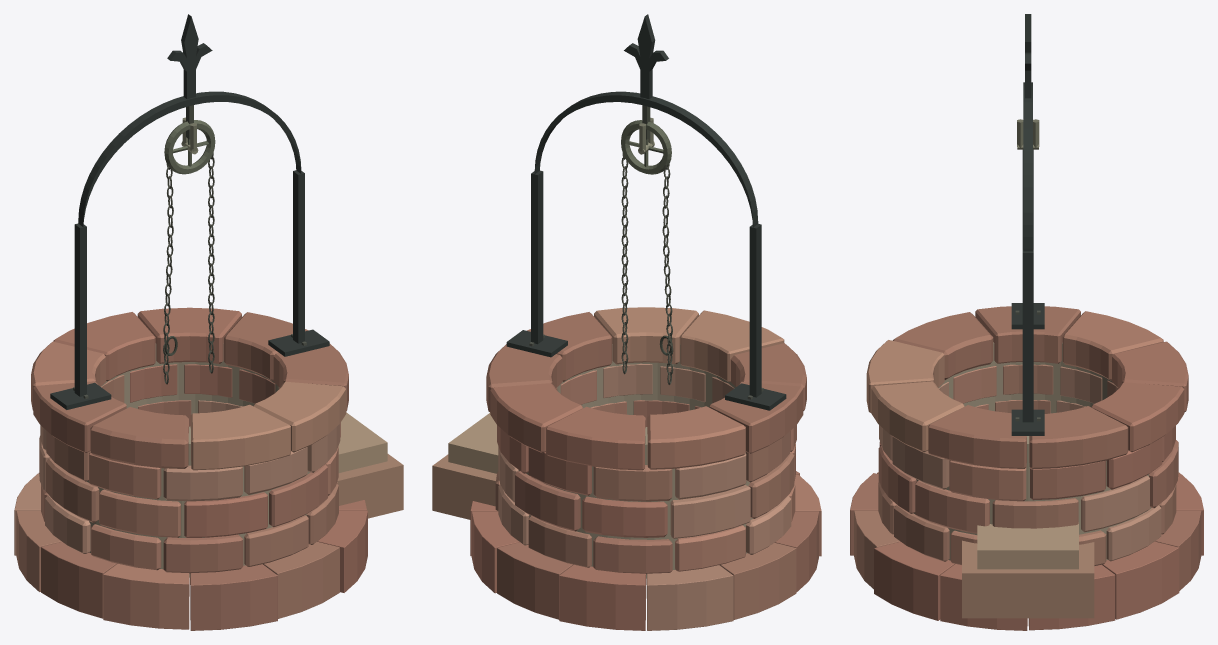
File: well.glb
3 renders of one model, left to right at view 1: azimuth 30°, elevation 25°; view 2: azimuth 150°, elevation 25°; view 3: azimuth 270°, elevation 25°, orthographic.
Visible parts, largest first — view 1: Well #a97967, Well #a77865, Well #b68470, Well #ad806c, Well #343b38, Well #ba8d75, Well #ad7967, Well #ac7966, Well #b68c77, Well #a49780, Well #ad8871, Well #b4826d (+4 smaller); view 2: Well #b68c77, Well #ad7967, Well #a97967, Well #ad806c, Well #a77865, Well #343b38, Well #ac7966, Well #ba8d75, Well #b4826d, Well #b68470, Well #a49780, Well #ad8871 (+4 smaller); view 3: Well #a77865, Well #ad7967, Well #ad806c, Well #b68c77, Well #a97967, Well #ad8871, Well #b68470, Well #ba8d75, Well #ac7966, Well #343b38, Well #b49b80, Well #b4826d (+1 smaller).
Part boxes in pixels (x1,y1,x2,y2): Well #a97967: (41, 369, 327, 630); Well #a77865: (33, 312, 348, 468); Well #b68470: (41, 387, 340, 629); Well #ad806c: (16, 375, 339, 618); Well #343b38: (50, 14, 329, 409); Well #ba8d75: (190, 381, 346, 470); Well #ad7967: (38, 364, 367, 592); Well #ac7966: (53, 307, 241, 381); Well #b68c77: (14, 400, 340, 555); Well #a49780: (87, 343, 310, 577); Well #ad8871: (337, 454, 403, 518); Well #b4826d: (31, 341, 105, 410); Well #b68c77: (498, 363, 750, 630); Well #ad7967: (470, 406, 701, 630); Well #a97967: (497, 388, 818, 619); Well #ad806c: (495, 431, 796, 619); Well #a77865: (486, 312, 806, 453); Well #343b38: (506, 14, 786, 410); Well #ac7966: (490, 383, 645, 470); Well #ba8d75: (594, 307, 784, 381); Well #b4826d: (647, 406, 745, 469); Well #b68470: (560, 370, 821, 571); Well #a49780: (518, 344, 752, 578); Well #ad8871: (432, 454, 496, 519); Well #a77865: (893, 306, 1128, 469); Well #ad7967: (874, 426, 1203, 630); Well #ad806c: (854, 364, 1176, 589); Well #b68c77: (879, 366, 1179, 561); Well #a97967: (850, 440, 1201, 590); Well #ad8871: (962, 540, 1094, 618); Well #b68470: (877, 366, 1026, 564); Well #ba8d75: (866, 340, 964, 452); Well #ac7966: (1091, 341, 1188, 452); Well #343b38: (1011, 14, 1044, 435); Well #b49b80: (977, 522, 1078, 569); Well #b4826d: (1062, 311, 1163, 380).
Bounding box in the file's own units: 1.85 × 2.89 × 1.71.
